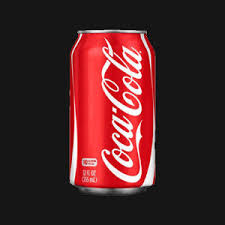can: (67, 27, 166, 202)
